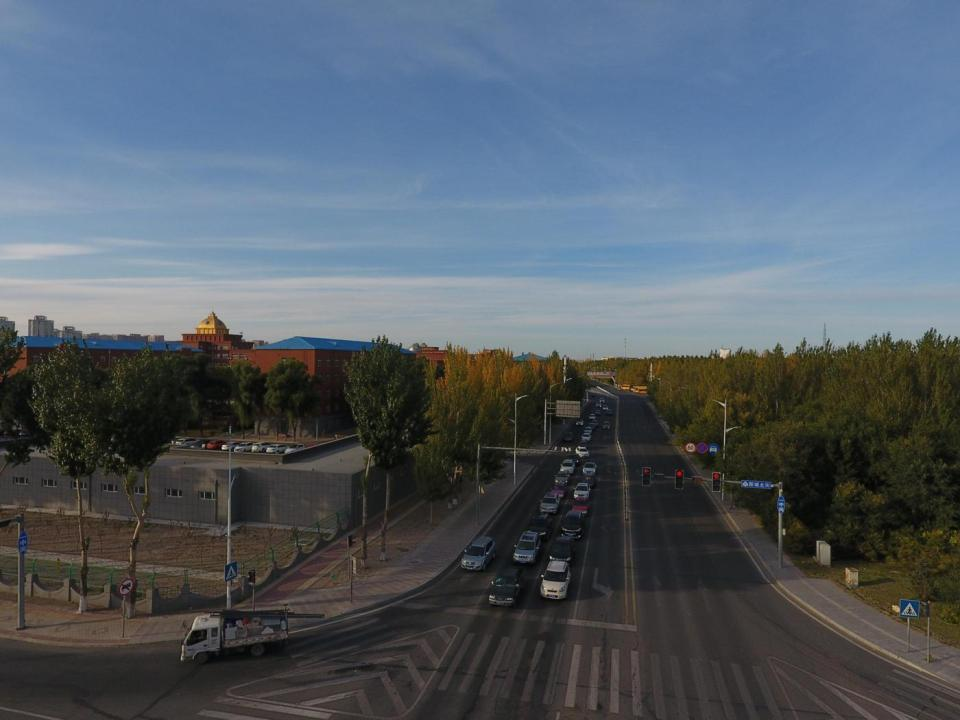car: (489, 566, 528, 608), (460, 535, 497, 571), (540, 560, 571, 600), (512, 531, 542, 564), (560, 510, 586, 540), (548, 536, 574, 562), (527, 511, 552, 537), (538, 491, 560, 515), (569, 496, 590, 513), (232, 440, 256, 453), (574, 482, 591, 500), (550, 481, 567, 498), (285, 442, 305, 456), (265, 443, 290, 454), (206, 438, 227, 451), (558, 459, 576, 474), (251, 441, 273, 453), (554, 469, 571, 483), (580, 473, 596, 486), (221, 440, 241, 450), (189, 439, 211, 448), (567, 451, 581, 465), (582, 461, 597, 474), (574, 446, 590, 458), (175, 438, 195, 447), (561, 431, 573, 442), (581, 432, 592, 441), (584, 426, 593, 434), (603, 421, 612, 429), (578, 440, 588, 447), (589, 419, 599, 426), (576, 418, 584, 426), (588, 414, 596, 420), (606, 409, 614, 415), (595, 402, 602, 408), (599, 397, 606, 403), (594, 410, 602, 415), (603, 404, 608, 411), (590, 393, 596, 397)
truck: (179, 605, 326, 663)
